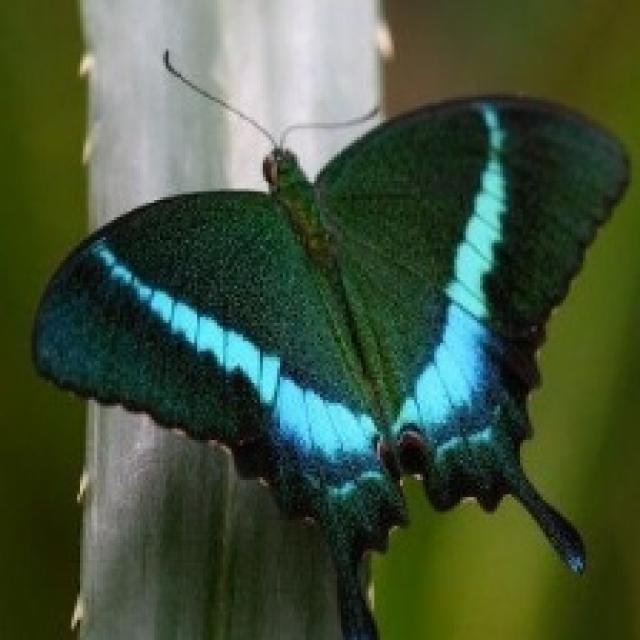butterfly: (29, 46, 632, 637)
